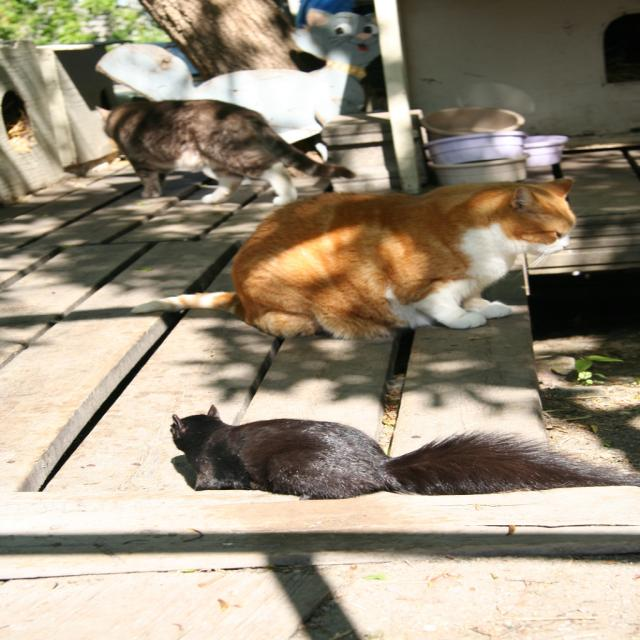Cat: (225, 169, 584, 358), (92, 97, 356, 206)
